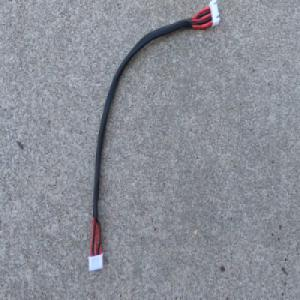Wire: (87, 0, 220, 273)
